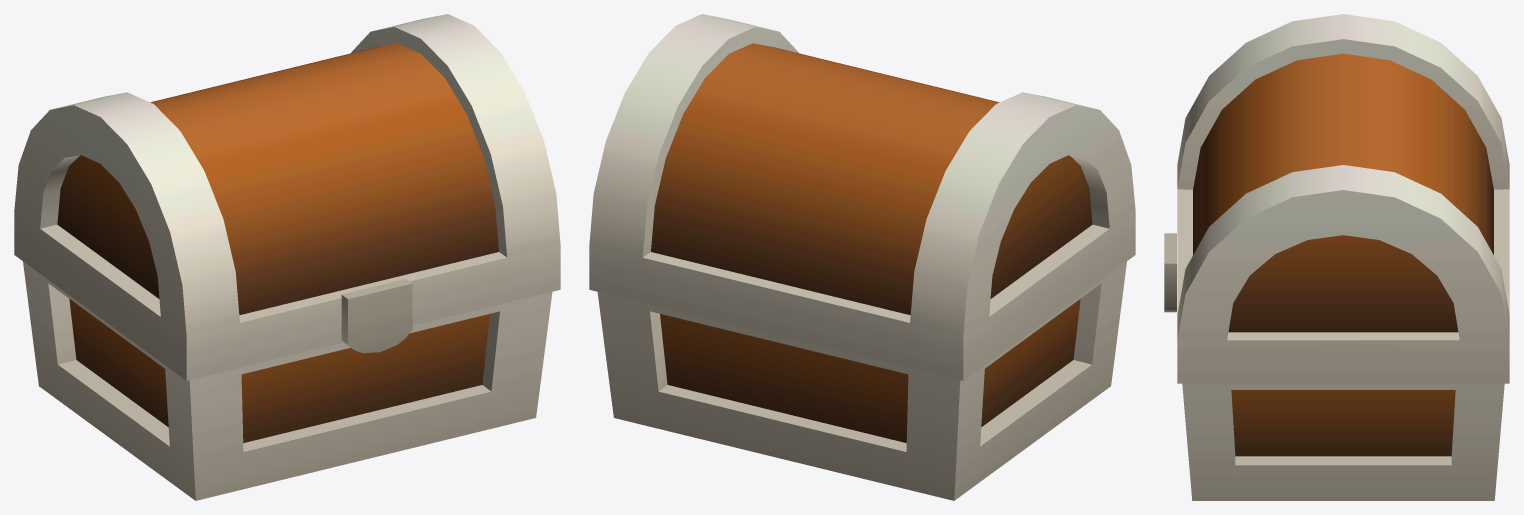
Rendered from Chest_B.fbx.
3 views of the same model, side by side, from view 1: azimuth 30°, elevation 25°; view 2: azimuth 150°, elevation 25°; view 3: azimuth 270°, elevation 25° (orthographic). The views are drawn at different scales.
Visible parts, largest first — view 1: Chest_B1, Chest_B2; view 2: Chest_B1, Chest_B2; view 3: Chest_B1, Chest_B2.
Boxes of the visible parts, left/top/right/bottom form: Chest_B1: left=14, top=14, right=560, bottom=380; Chest_B2: left=23, top=261, right=552, bottom=500; Chest_B1: left=589, top=14, right=1135, bottom=380; Chest_B2: left=597, top=261, right=1126, bottom=500; Chest_B1: left=1164, top=14, right=1509, bottom=383; Chest_B2: left=1182, top=383, right=1504, bottom=500.
Size of the model in its own units: 1.23 by 1.04 by 1.02.
